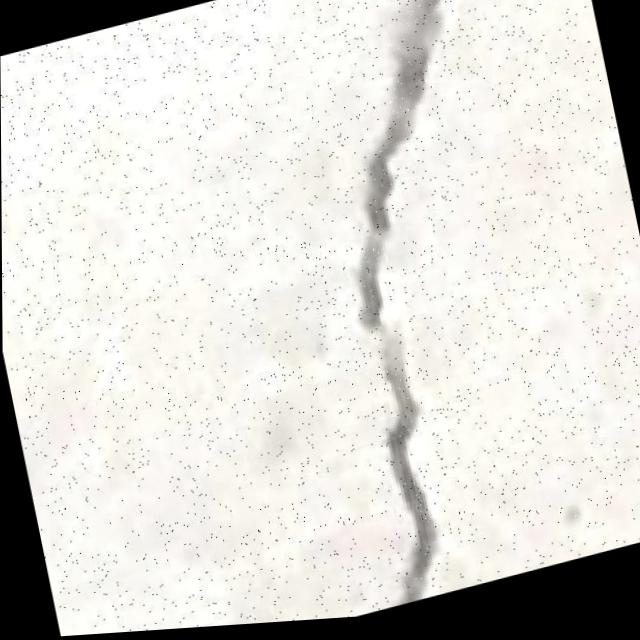Crack: (251, 0, 591, 622)
